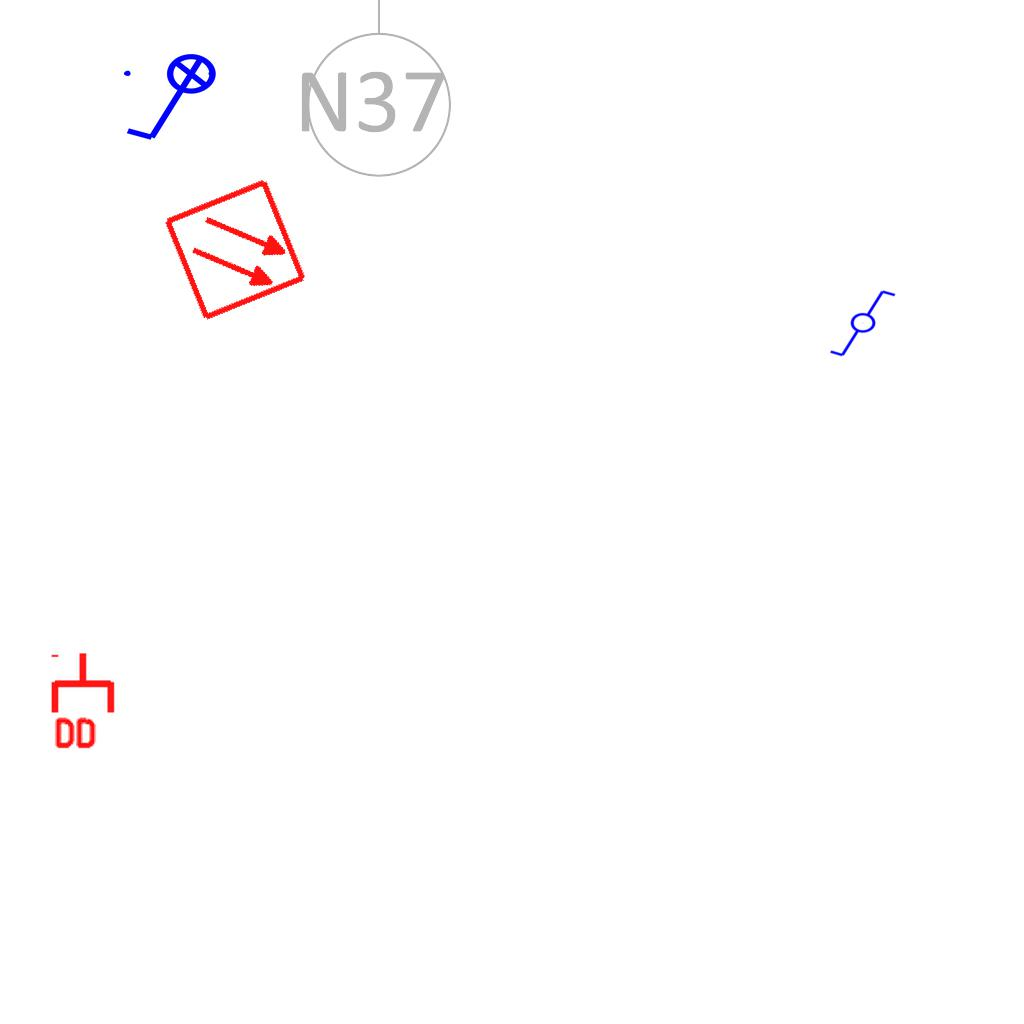Ausschalter_beleuchtet: (118, 52, 230, 148)
Datenanschluss_zweifach: (50, 650, 119, 753)
RMO_Rauchmelder_optischer: (161, 175, 310, 324)
Wechselschalter: (828, 288, 906, 360)
